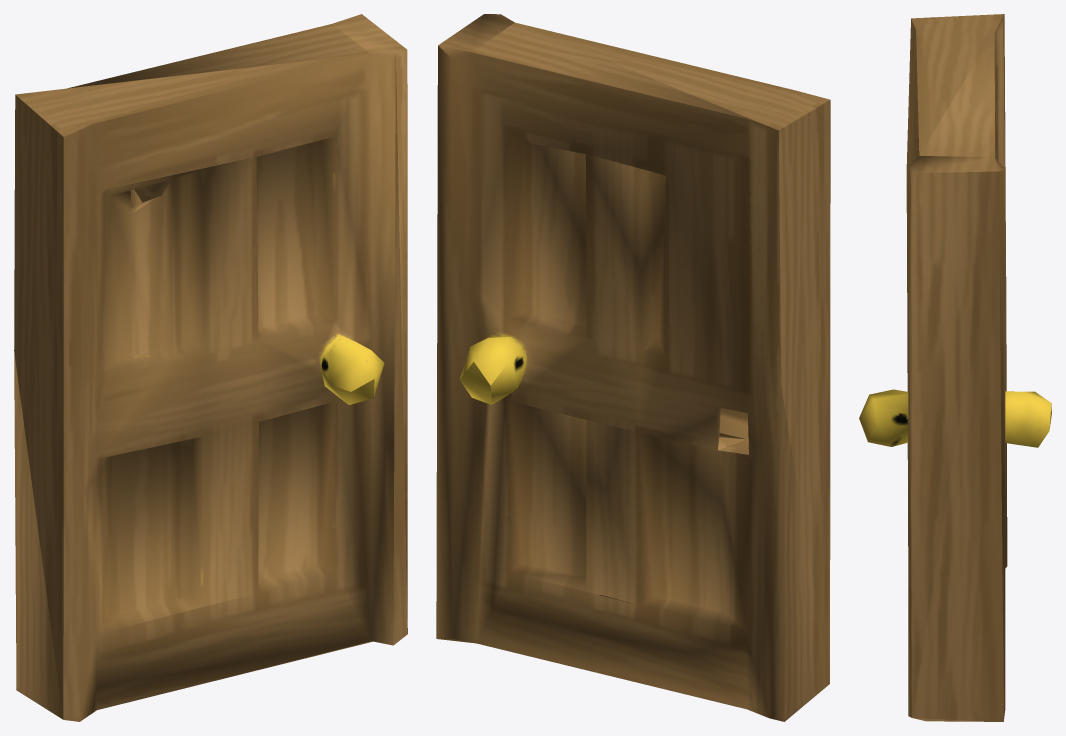
File: oak-panel-door.glb
3 renders of one model, left to right at view 1: azimuth 30°, elevation 25°; view 2: azimuth 150°, elevation 25°; view 3: azimuth 270°, elevation 25°, orthographic. The views are drawn at different scales.
Parts seen in each view (by area): view 1: geometry_0.001; view 2: geometry_0.001; view 3: geometry_0.001.
Part boxes in pixels (left/top/right/bottom): geometry_0.001: left=14, top=14, right=407, bottom=721; geometry_0.001: left=436, top=14, right=830, bottom=721; geometry_0.001: left=859, top=14, right=1051, bottom=721.
Bounding box in the file's own units: 0.61 × 1 × 0.3159.
Materials: 1 (1 with a texture image).
